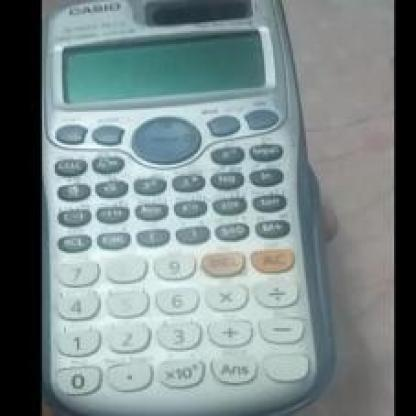calculator: (44, 0, 335, 414)
